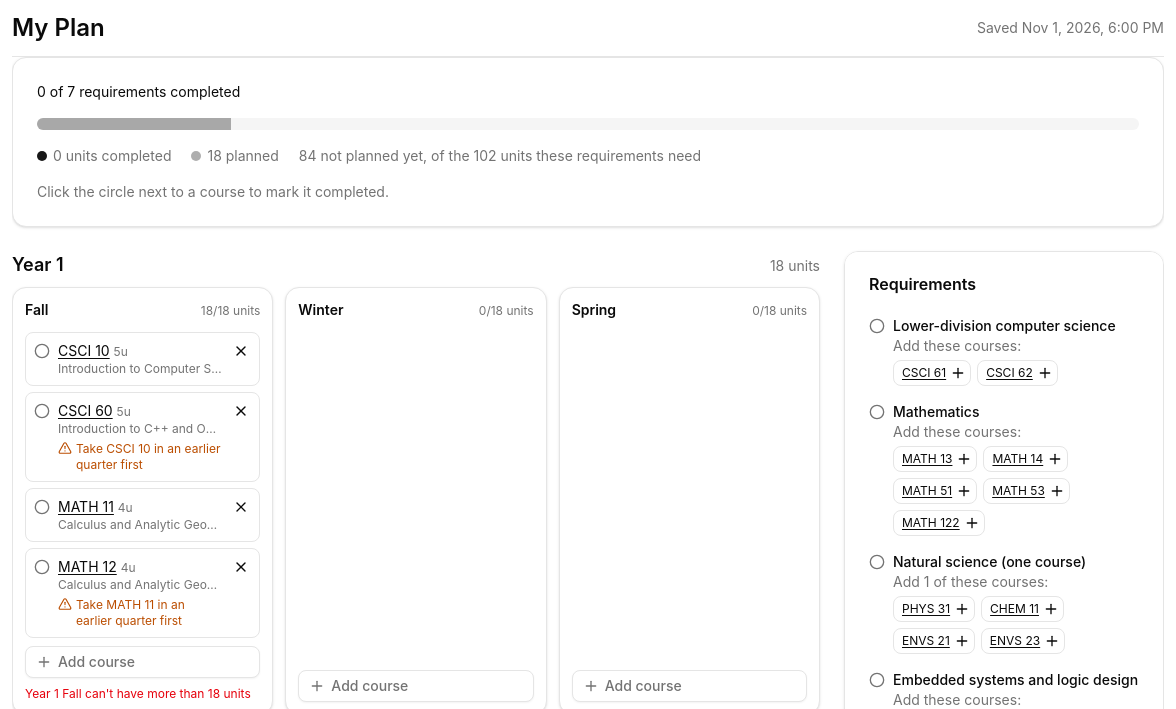
Test: plan page › clears a quarter error once the plan changes
Earlier steps of the test are not shown.
Expected: the text "Year 1 Fall can't have more than 18 units" is shown, [25,686,260,702]
Click the button named "Remove MATH 12": (241, 567) [231,557,251,577]
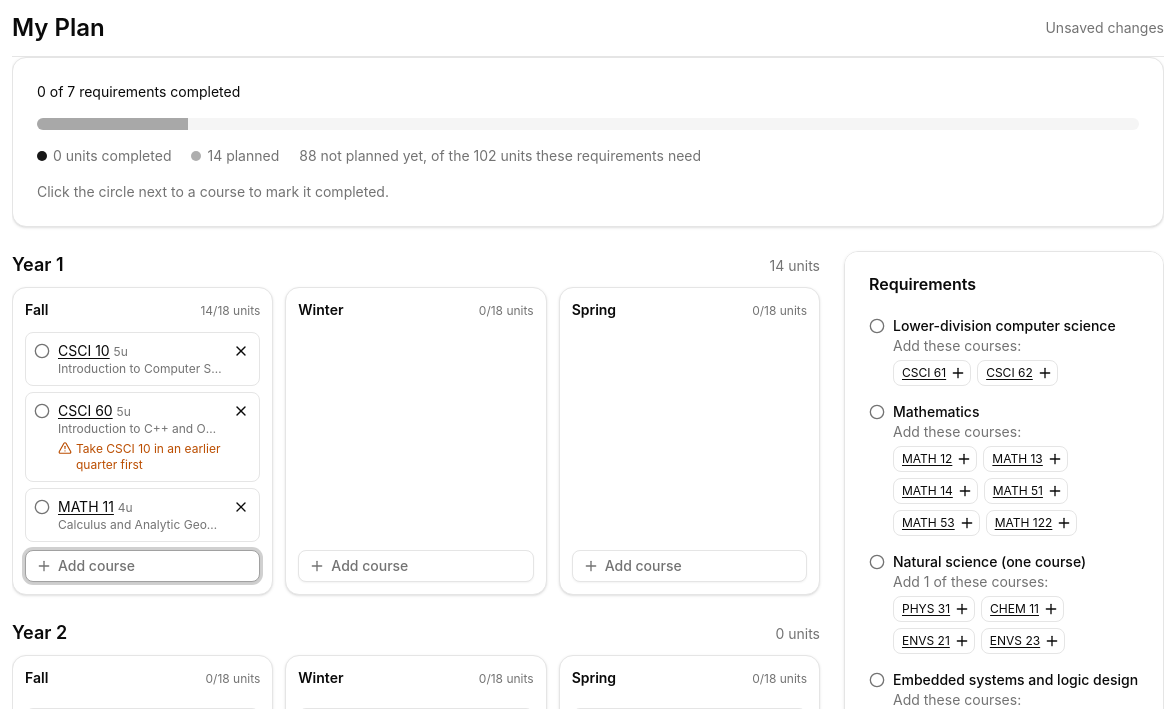
Expected: the text "Year 1 Fall can't have more than 18 units" is gone
